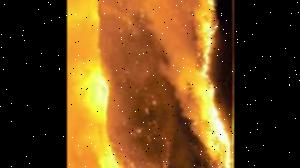fire: (77, 58, 159, 168), (176, 0, 229, 168)
